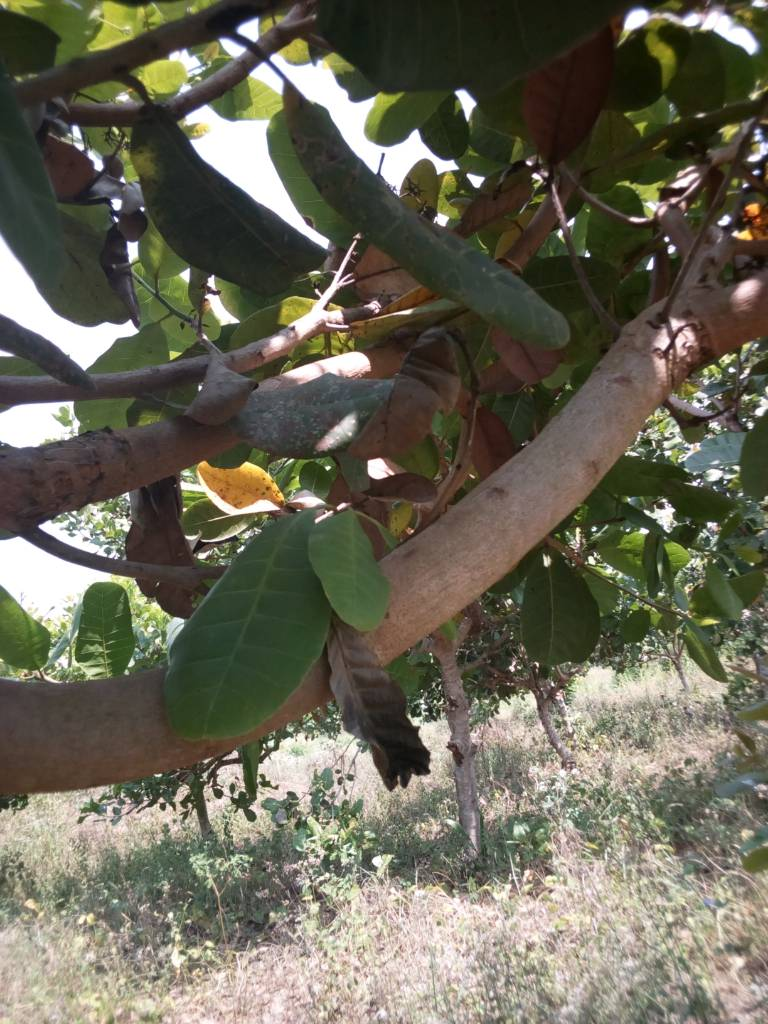Oidium: (245, 350, 430, 447)
